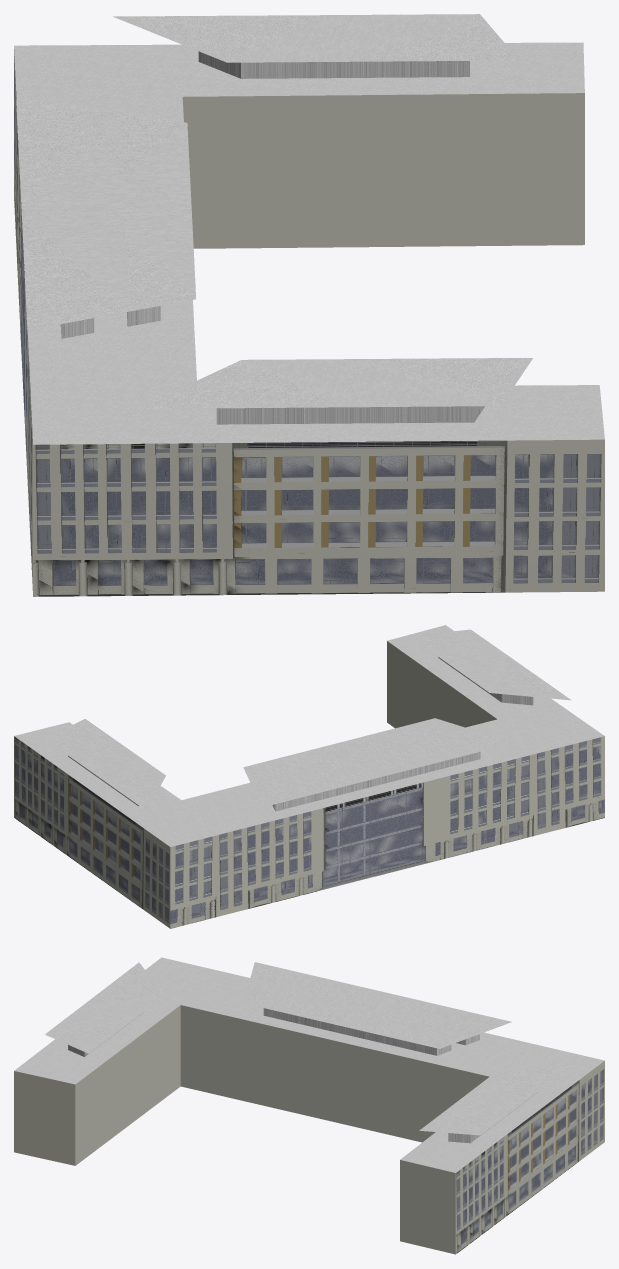
The model's file is bangonglou5.gltf.
3 views of the same model, one above another, from view 1: azimuth 30°, elevation 25°; view 2: azimuth 150°, elevation 25°; view 3: azimuth 270°, elevation 25° (orthographic). The views are drawn at different scales.
Parts seen in each view (by area): view 1: Line3117665; view 2: Line3117665; view 3: Line3117665.
Boxes of the visible parts, x1,y1,x2,y2 form: Line3117665: (14, 14, 604, 596); Line3117665: (14, 625, 604, 928); Line3117665: (14, 957, 604, 1254).
Bounding box in the file's own units: 596 × 126 × 690.
5 materials, 5 textured.
